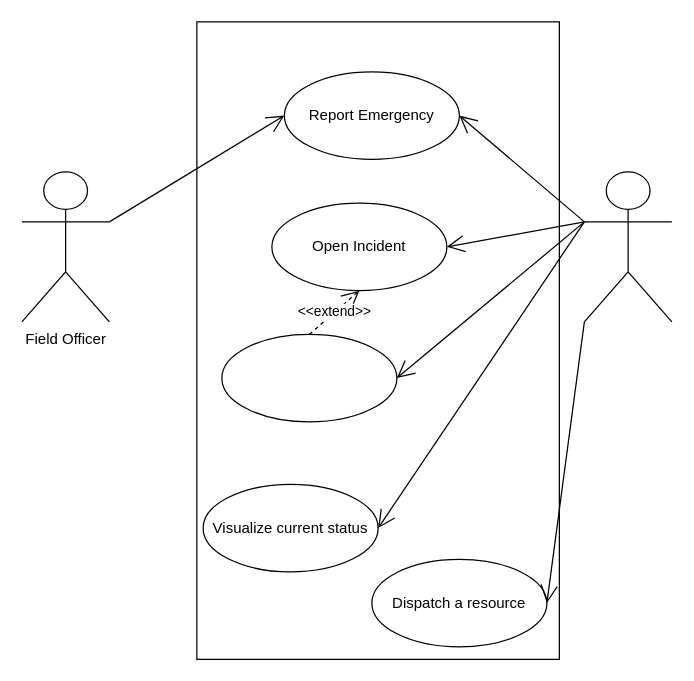
This 694x681 diagram has some shape labels left out. Each missing label, with the box of its shape:
Dispatcher: (583, 171, 672, 322)
Handle incident: (221, 333, 397, 422)
